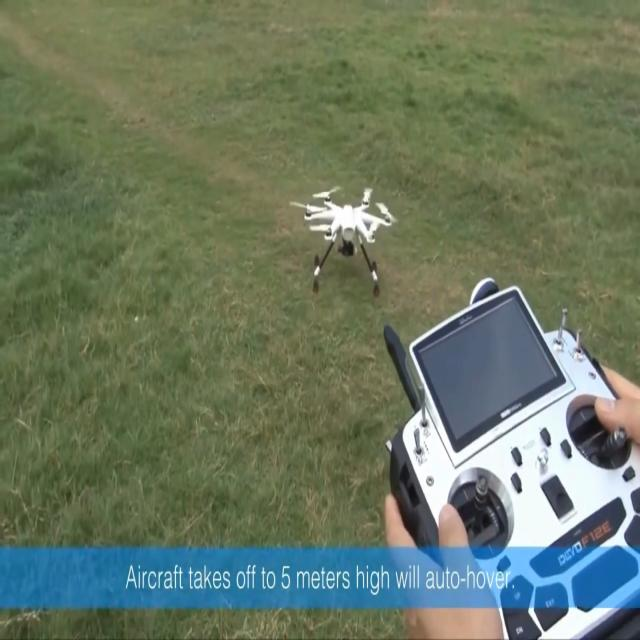drone: (289, 184, 397, 298)
